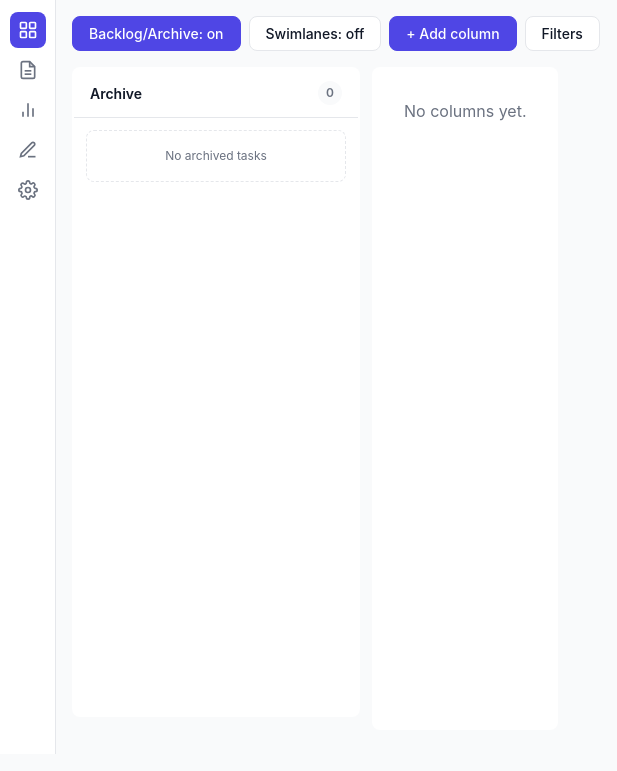
BoardPage › toggles the swimlanes flag when the button is clicked
This screenshot has width=617, height=771.
Click the button with class "board__swimlanes-toggle". click: (315,34)
box: [248,16,381,51]
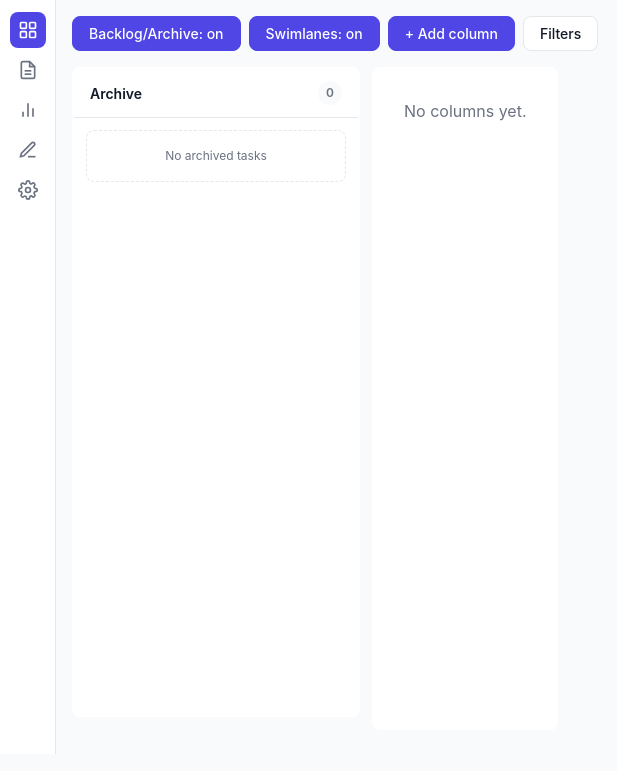
Check: the button with class "board__swimlanes-toggle" shows "on"
Click the button with class "board__swimlanes-toggle". click: (314,34)
box: [248,16,380,51]
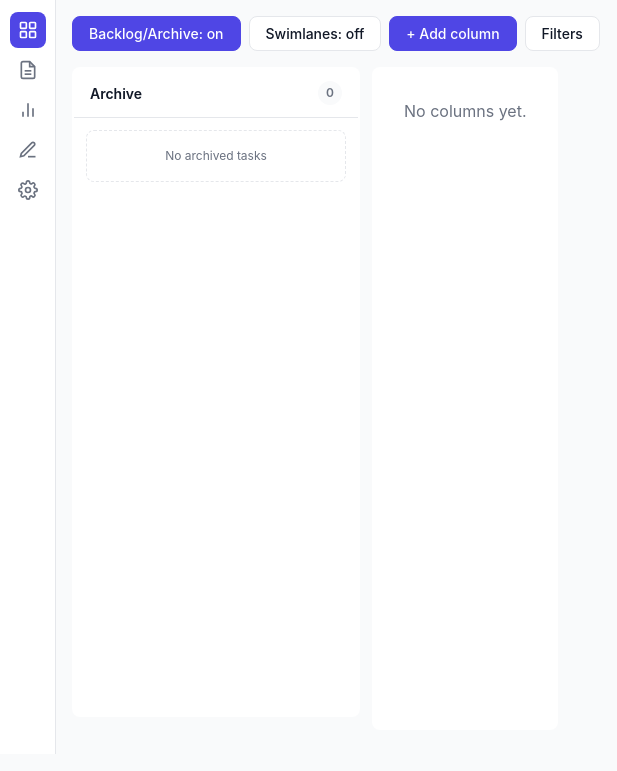
Check: the button with class "board__swimlanes-toggle" shows "off", box [248,16,381,51]
